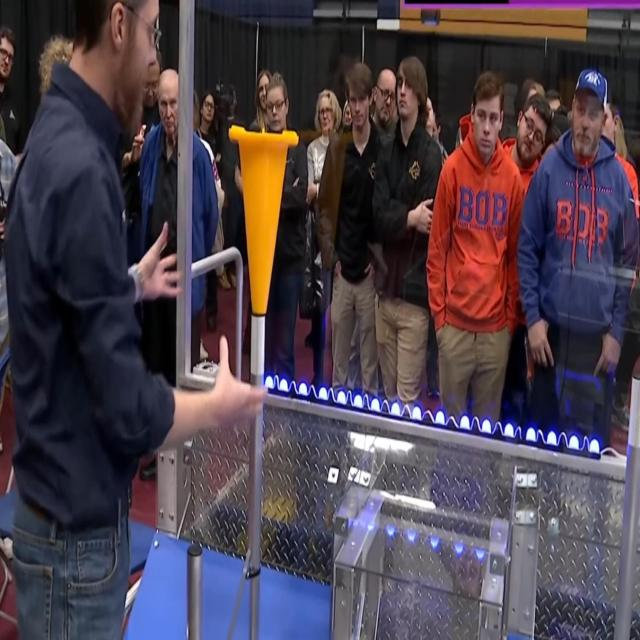frc_cone: (224, 122, 296, 314)
